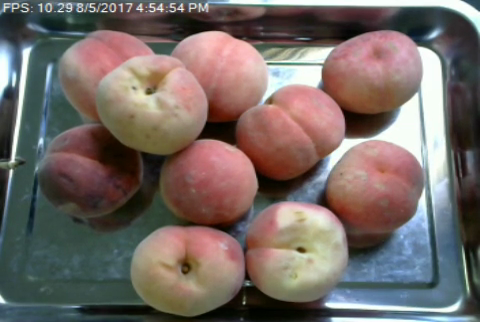Peach: (237, 204, 347, 304), (129, 224, 245, 318), (99, 54, 205, 154), (235, 85, 345, 181), (37, 122, 143, 218), (54, 27, 154, 127), (325, 138, 424, 238), (174, 29, 271, 122), (322, 27, 421, 116), (159, 138, 258, 226)
